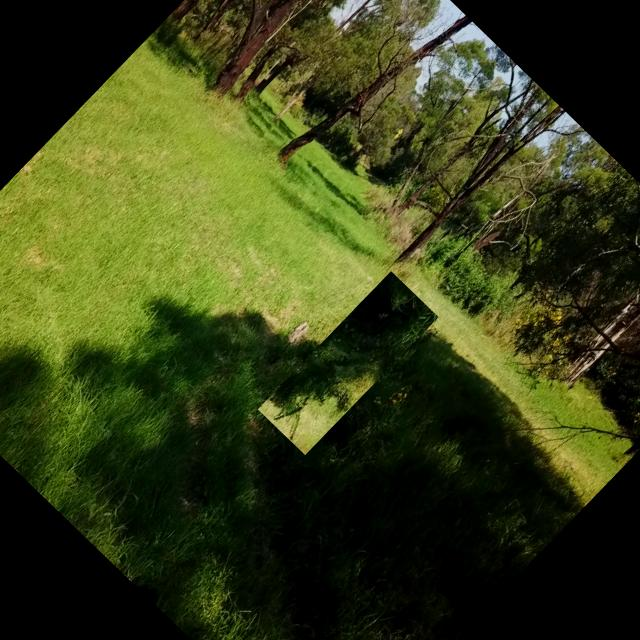Mysore-Thorn-Weed: (257, 272, 438, 456)
